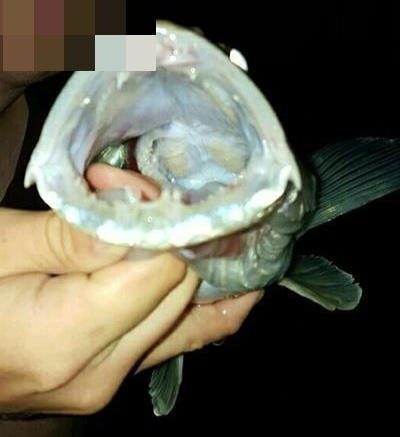Sander lucioperca: (20, 20, 400, 417)
